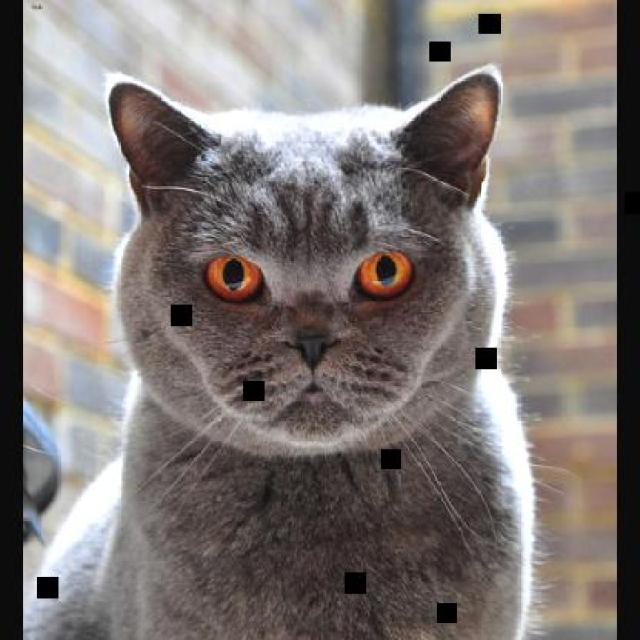unauthorized: (23, 61, 557, 638)
